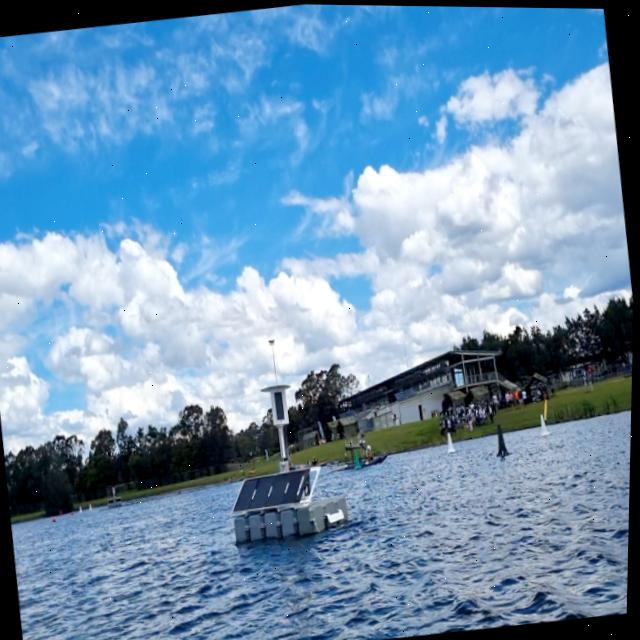led: (272, 387, 290, 422)
